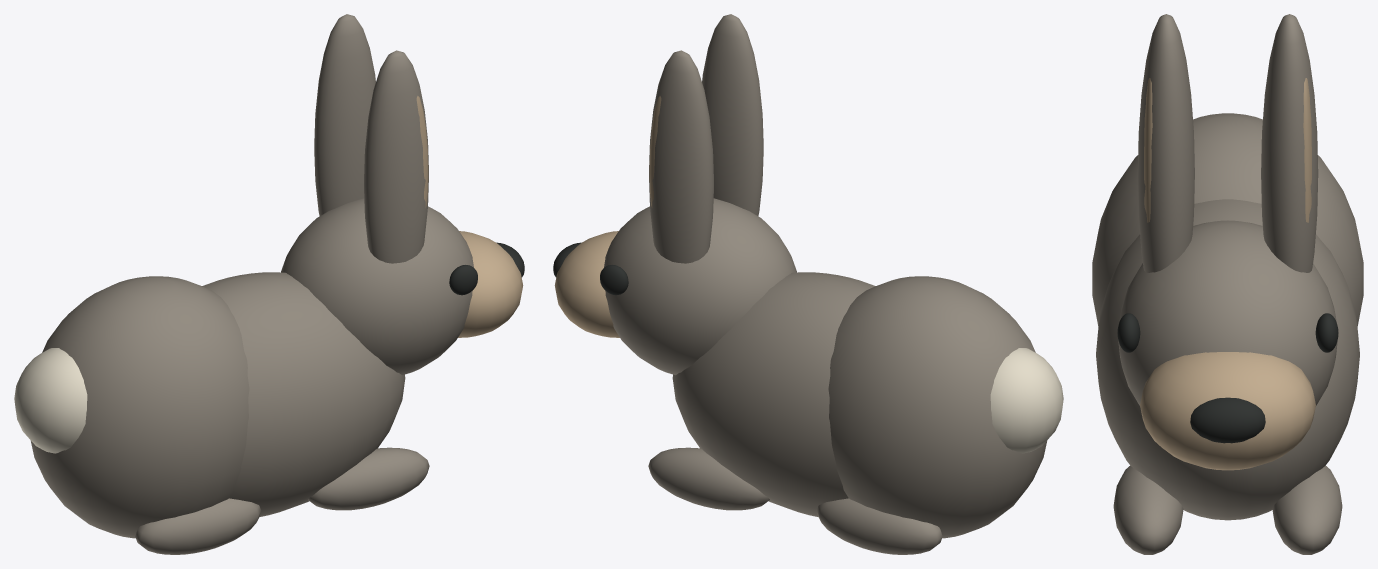
Rendered from rabbit_aaa.glb.
3 views of the same model, side by side, from view 1: azimuth 30°, elevation 25°; view 2: azimuth 150°, elevation 25°; view 3: azimuth 270°, elevation 25° (orthographic). The views are drawn at different scales.
Parts seen in each view (by area): view 1: RabbitHaunch, RabbitBody, RabbitHead, Rabbit_Ear_-1, Rabbit_Ear_1, RabbitTail, Rabbit_Paw_2, Rabbit_Paw_0, RabbitMuzzle, RabbitEye.001; view 2: RabbitHaunch, RabbitBody, RabbitHead, Rabbit_Ear_1, Rabbit_Ear_-1, RabbitTail, Rabbit_Paw_3, Rabbit_Paw_1, RabbitMuzzle, RabbitEye; view 3: RabbitHead, RabbitBody, RabbitMuzzle, RabbitHaunch, Rabbit_Ear_-1, Rabbit_Ear_1, Rabbit_Paw_2, Rabbit_Paw_3, RabbitNose, RabbitInnerEar.001, RabbitInnerEar, RabbitEye.001 (+1 smaller).
Part boxes in pixels (x1,y1,x2,y2): RabbitHaunch: [30, 276, 249, 538]; RabbitBody: [202, 272, 405, 516]; RabbitHead: [281, 198, 473, 375]; Rabbit_Ear_-1: [364, 50, 428, 263]; Rabbit_Ear_1: [314, 14, 375, 215]; RabbitTail: [14, 348, 87, 453]; Rabbit_Paw_2: [308, 447, 429, 510]; Rabbit_Paw_0: [135, 498, 261, 554]; RabbitMuzzle: [458, 231, 523, 337]; RabbitEye.001: [449, 265, 477, 295]; RabbitHaunch: [828, 276, 1047, 538]; RabbitBody: [672, 272, 875, 516]; RabbitHead: [604, 198, 796, 375]; Rabbit_Ear_1: [649, 50, 713, 263]; Rabbit_Ear_-1: [702, 14, 763, 215]; RabbitTail: [990, 348, 1063, 453]; Rabbit_Paw_3: [648, 447, 769, 510]; Rabbit_Paw_1: [816, 498, 942, 554]; RabbitMuzzle: [554, 231, 619, 337]; RabbitEye: [600, 265, 628, 295]; RabbitHead: [1118, 220, 1337, 405]; RabbitBody: [1096, 199, 1359, 520]; RabbitMuzzle: [1140, 352, 1315, 470]; RabbitHaunch: [1092, 113, 1363, 326]; Rabbit_Ear_-1: [1137, 14, 1194, 272]; Rabbit_Ear_1: [1261, 14, 1318, 272]; Rabbit_Paw_2: [1113, 465, 1183, 554]; Rabbit_Paw_3: [1272, 465, 1342, 554]; RabbitNose: [1190, 397, 1265, 443]; RabbitInnerEar.001: [1144, 78, 1152, 222]; RabbitInnerEar: [1303, 78, 1311, 222]; RabbitEye.001: [1117, 313, 1140, 352].
Size of the model in its own units: 1.62 by 1.39 by 0.6166.
